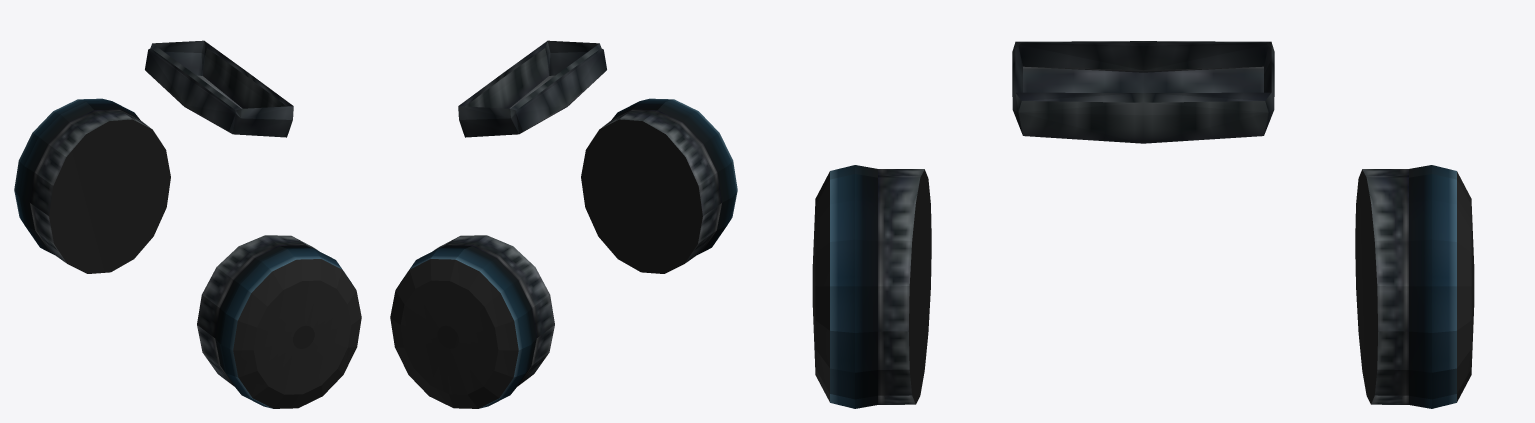
The model's file is HEADPHONES1.fbx.
3 views of the same model, side by side, from view 1: azimuth 30°, elevation 25°; view 2: azimuth 150°, elevation 25°; view 3: azimuth 270°, elevation 25° (orthographic). The views are drawn at different scales.
Parts seen in each view (by area): view 1: HEADPHONES1; view 2: HEADPHONES1; view 3: HEADPHONES1.
Part boxes in pixels (x1,y1,x2,y2): HEADPHONES1: (14, 40, 361, 408); HEADPHONES1: (390, 40, 737, 408); HEADPHONES1: (812, 41, 1474, 408).
Size of the model in its own units: 10.78 by 20.95 by 36.32.
